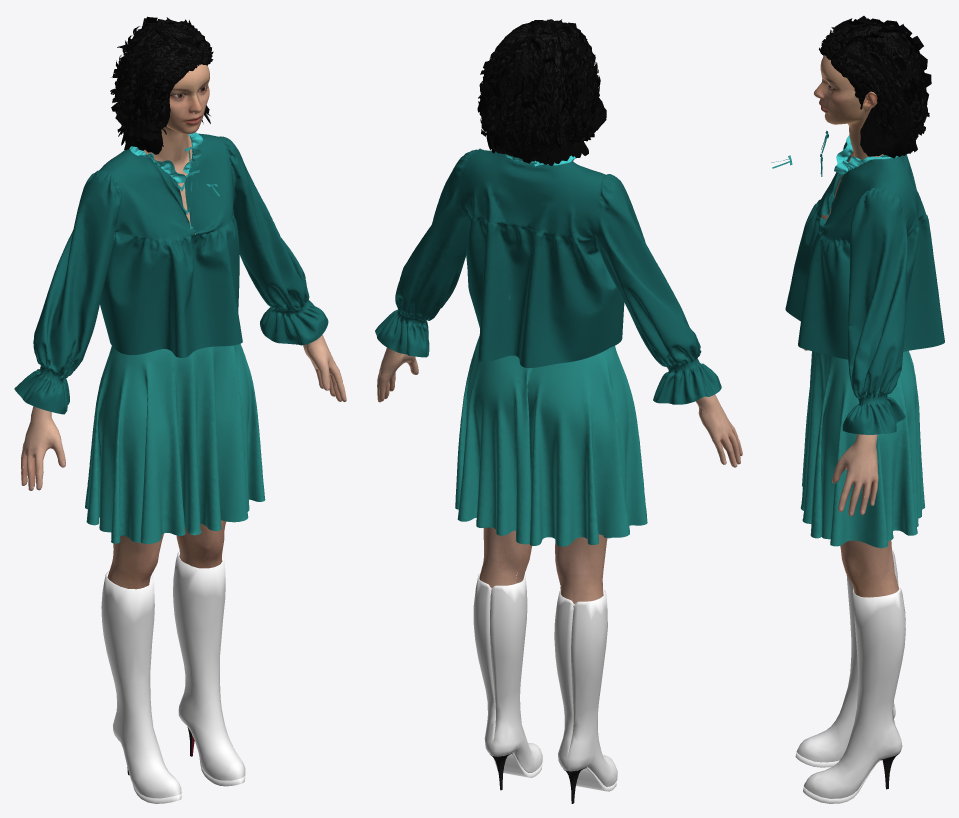
3 views of the same model, side by side, from view 1: azimuth 30°, elevation 25°; view 2: azimuth 150°, elevation 25°; view 3: azimuth 270°, elevation 25° (orthographic). The views are drawn at different scales.
Visible parts, largest first — view 1: Cloth, Avatar; view 2: Cloth, Avatar; view 3: Cloth, Avatar.
Part boxes in pixels (x1,y1,x2,y2): Cloth: [14, 132, 328, 543]; Avatar: [21, 16, 346, 803]; Cloth: [375, 148, 721, 546]; Avatar: [377, 19, 742, 803]; Cloth: [785, 135, 944, 548]; Avatar: [795, 16, 931, 803].
Size of the model in its own units: 0.7874 by 1.71 by 0.3558.
19 materials, 13 textured.
